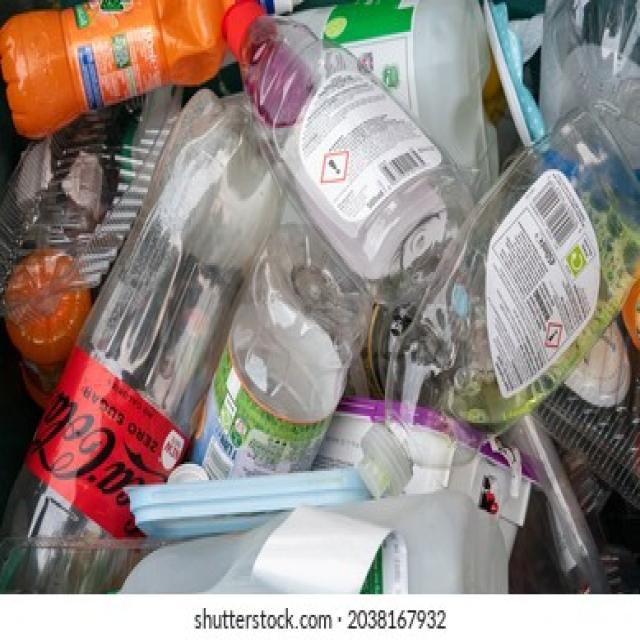plastic: (370, 103, 594, 505), (44, 80, 196, 578), (238, 25, 442, 286), (220, 263, 362, 480), (5, 5, 234, 66)
